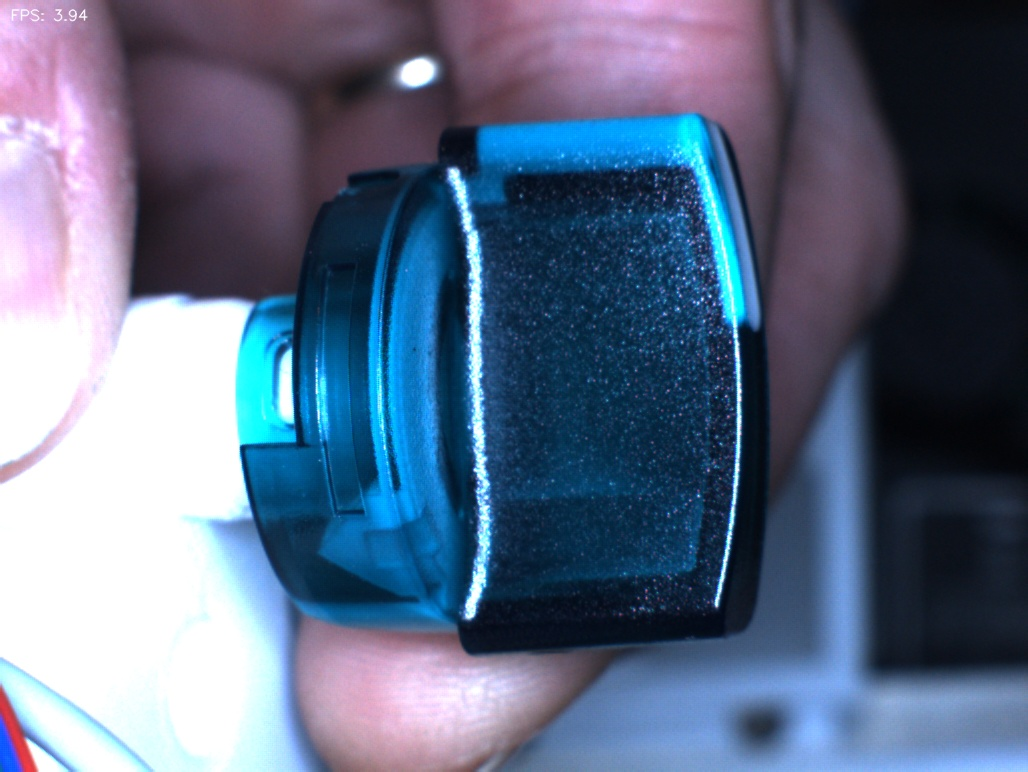PointNoir: (385, 313, 447, 390)
